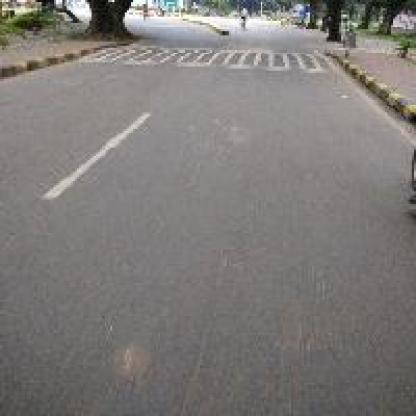Speed Bump: (73, 41, 335, 75)
